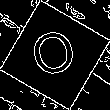O_S: (28, 25, 82, 85)
